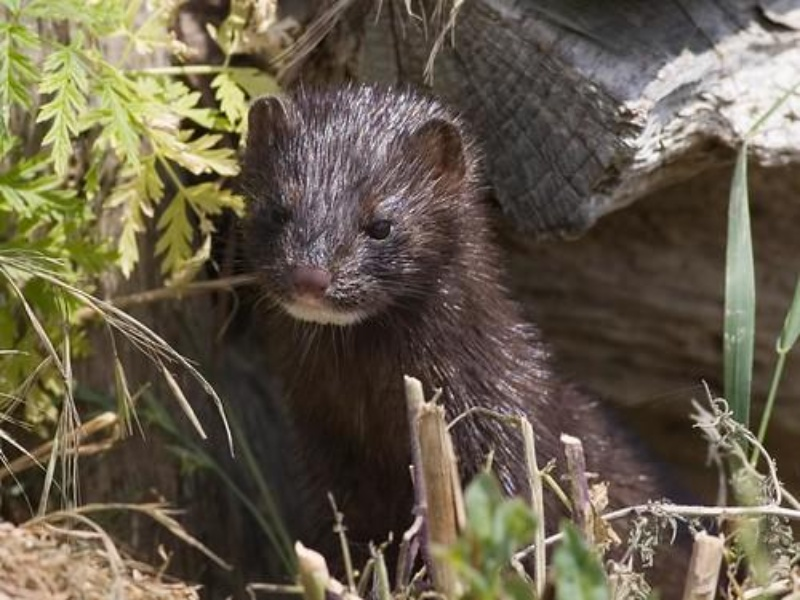minkish: (236, 83, 684, 594)
